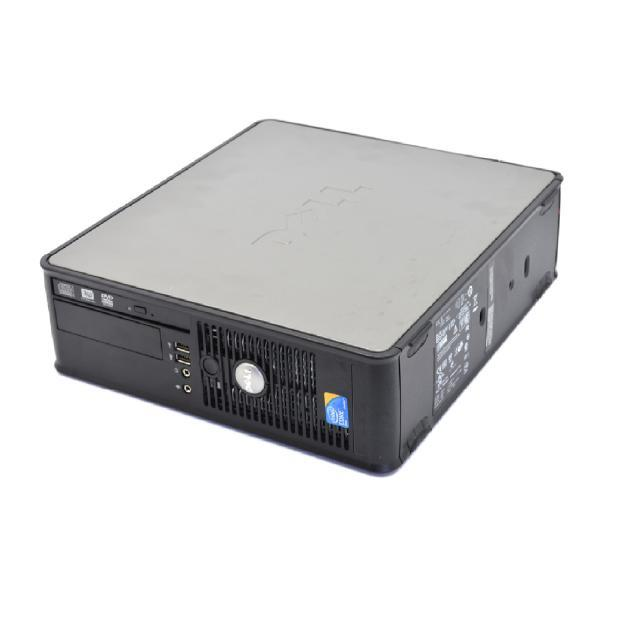Desktop-PC: (38, 92, 590, 482)
